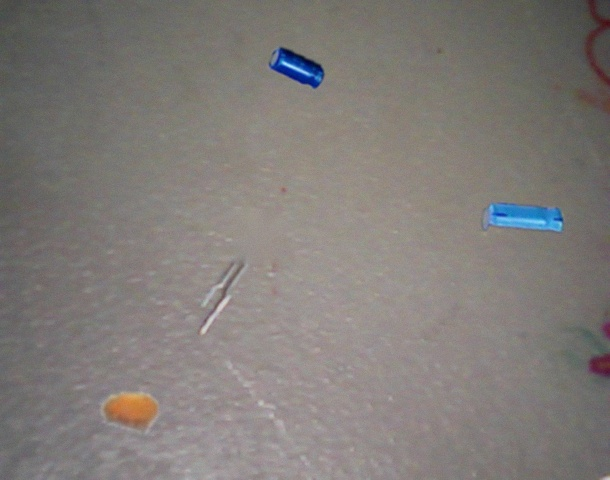capacitor: (101, 392, 158, 435), (268, 47, 325, 89), (482, 203, 564, 232)
